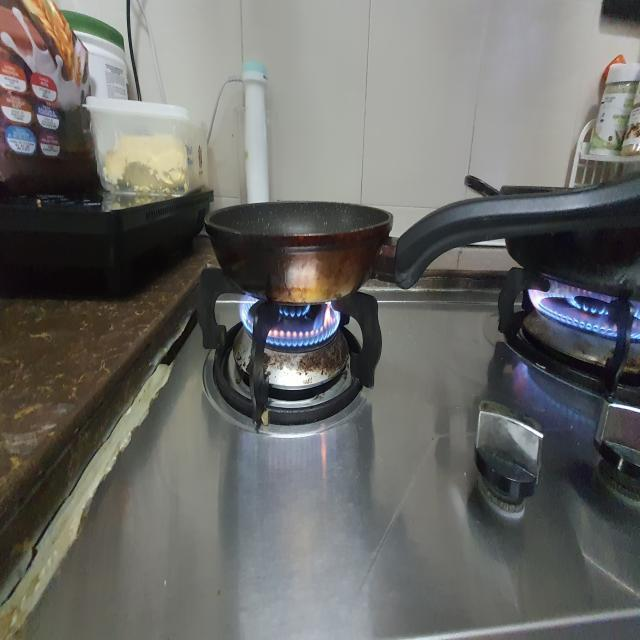Flame: (230, 290, 362, 350), (528, 275, 640, 344)
Pan: (205, 178, 413, 310), (490, 170, 640, 298)
